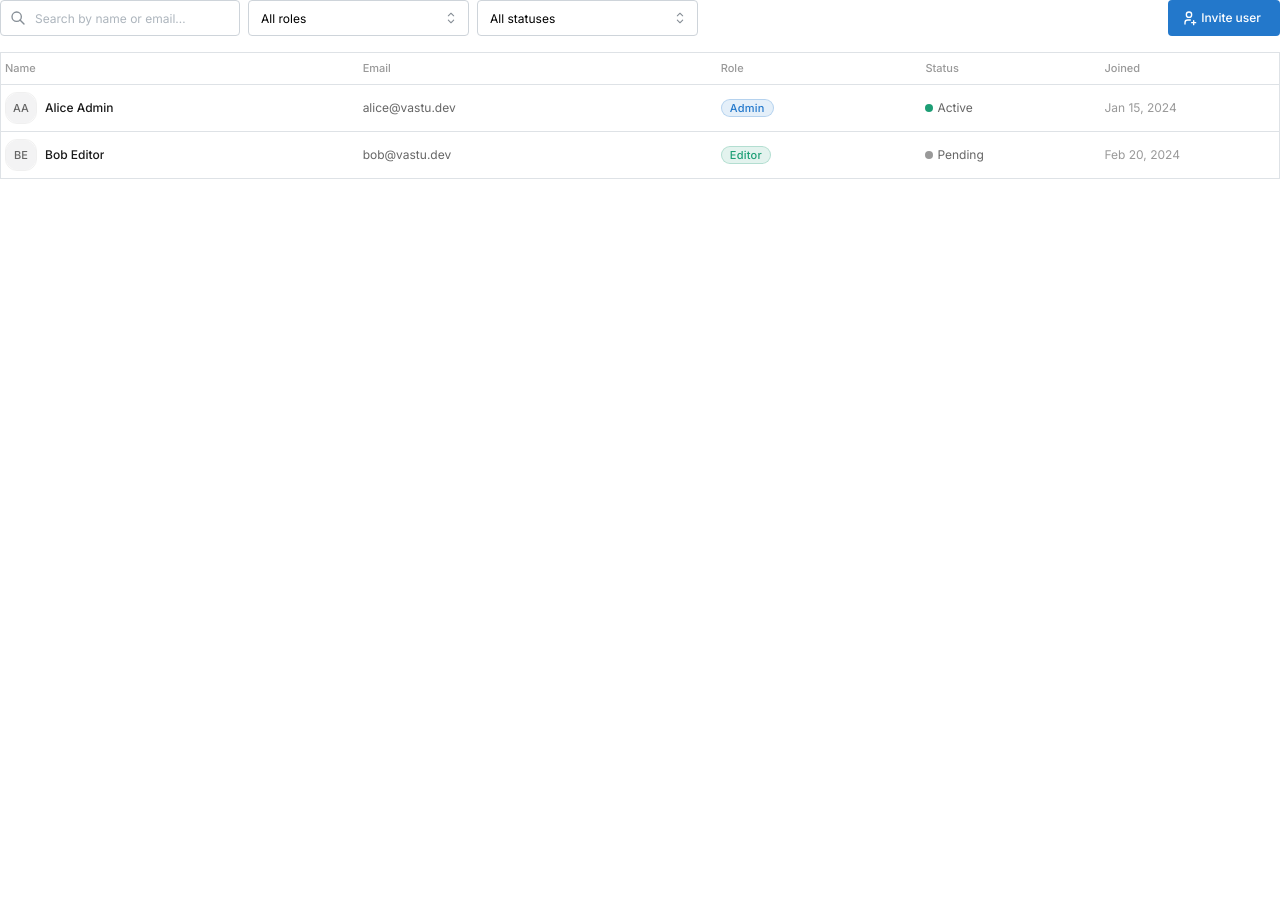
Test: UserList › opens the edit drawer when a user row is clicked
This screenshot has width=1280, height=900.
Expected: the text "Alice Admin" is shown, [45,99,114,117]
Click the row named "edit user alice admin": (640, 108) [0,84,1279,132]
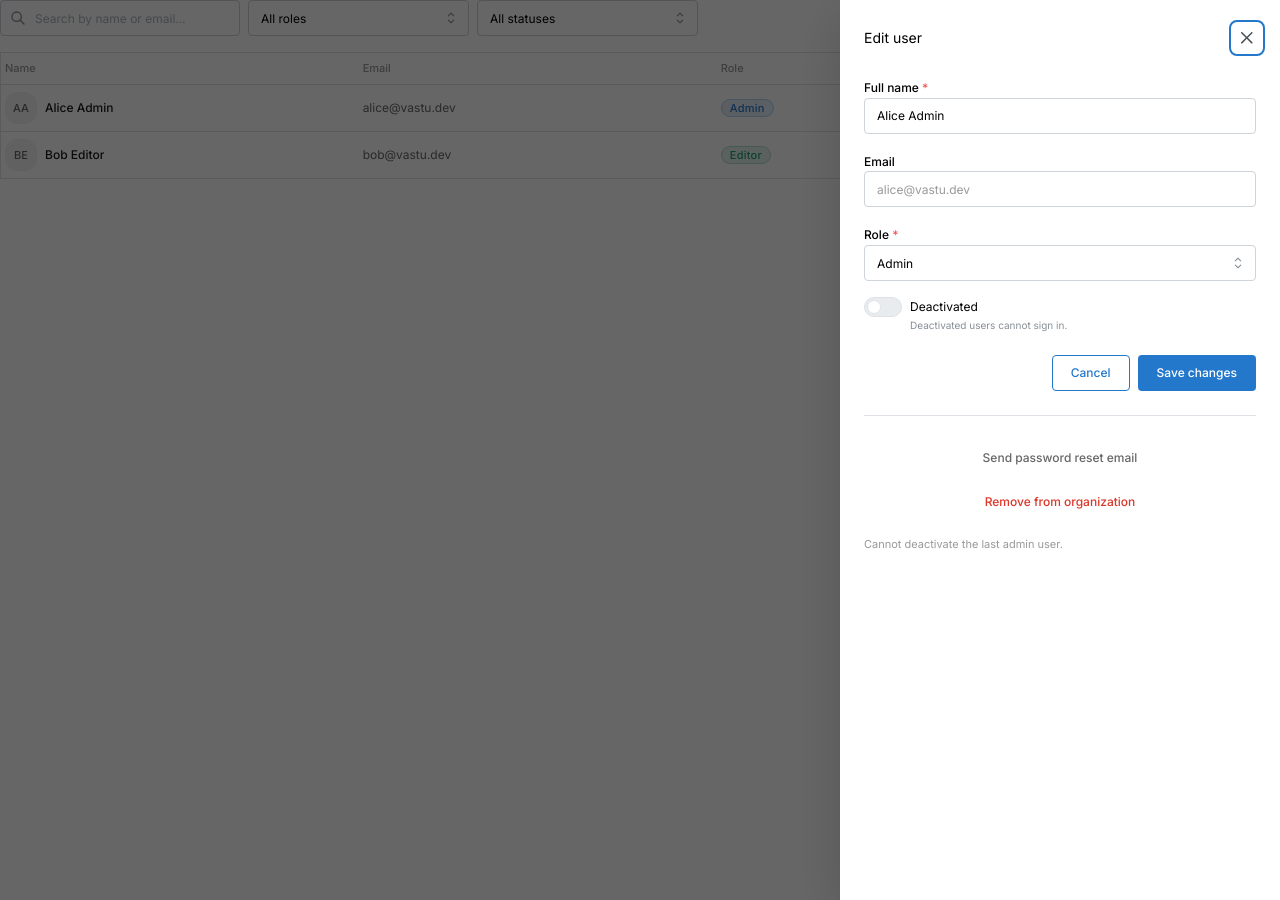
Now the heading "Edit user" is shown, box [864,31,922,45]
